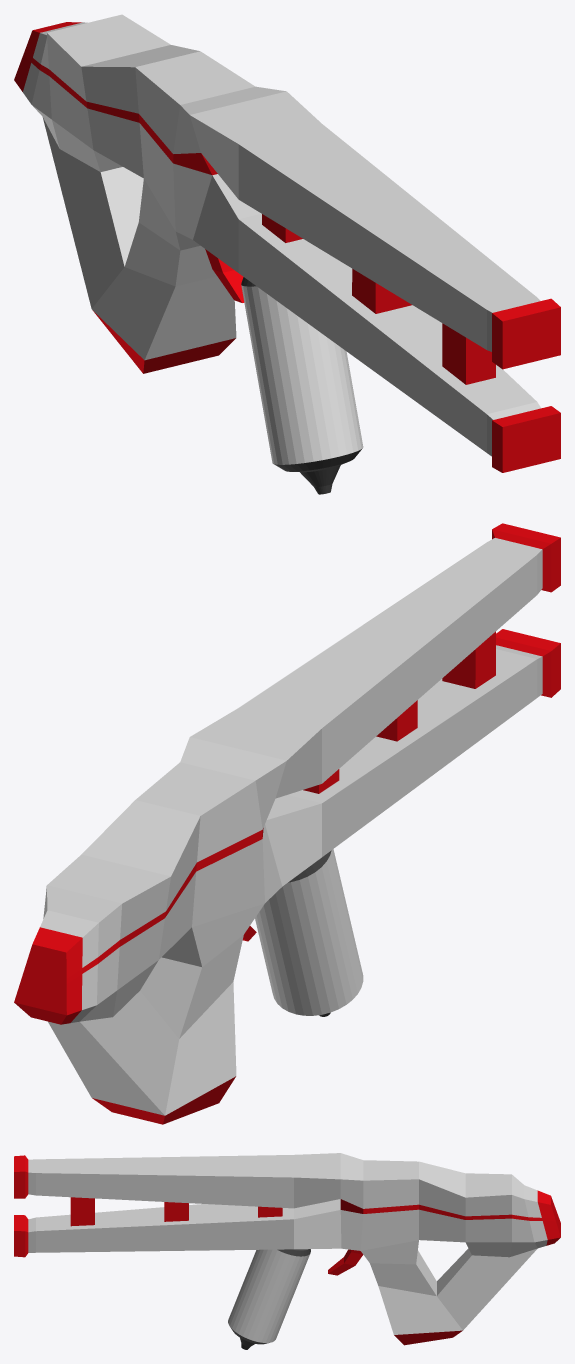
The model's file is railgun_laser.fbx.
3 views of the same model, one above another, from view 1: azimuth 30°, elevation 25°; view 2: azimuth 150°, elevation 25°; view 3: azimuth 270°, elevation 25° (orthographic). The views are drawn at different scales.
Parts seen in each view (by area): view 1: Cube; view 2: Cube; view 3: Cube.
Part boxes in pixels (box(x1,y1,x2,y2)): Cube: box(14, 14, 560, 494); Cube: box(14, 523, 560, 1124); Cube: box(14, 1153, 560, 1349).
Bounding box in the file's own units: 199 × 653 × 1742.
